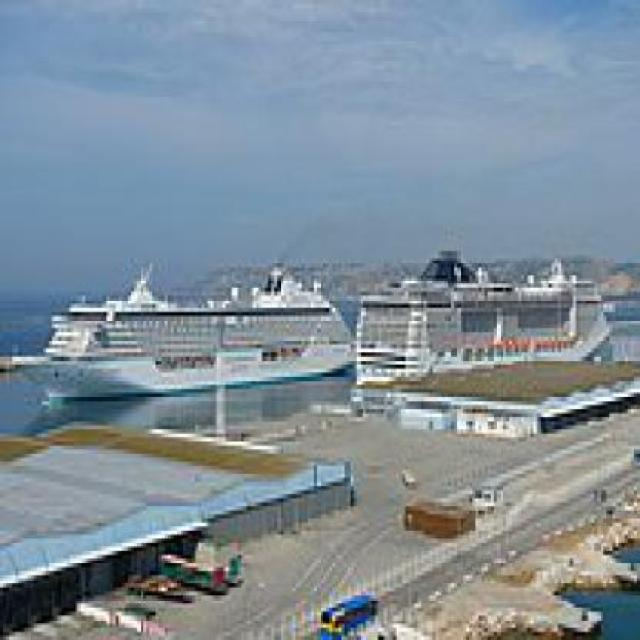cruise: (23, 249, 364, 398), (351, 257, 629, 403)
